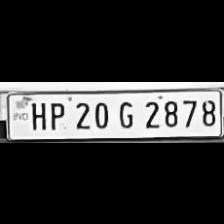0: (91, 97, 111, 128)
2: (68, 98, 92, 130), (140, 96, 160, 128)
7: (179, 96, 197, 127)
8: (198, 96, 218, 126), (160, 96, 178, 127)
G: (114, 97, 136, 129)
H: (28, 98, 46, 130)
P: (46, 98, 66, 130)
